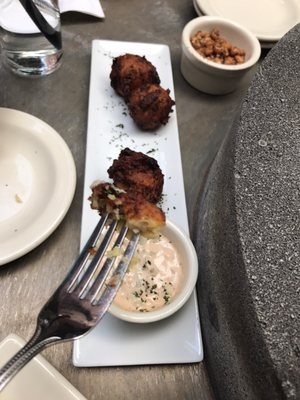pizza: (0, 0, 64, 78)
sushi: (0, 106, 78, 266), (180, 16, 261, 96), (191, 0, 300, 42)
